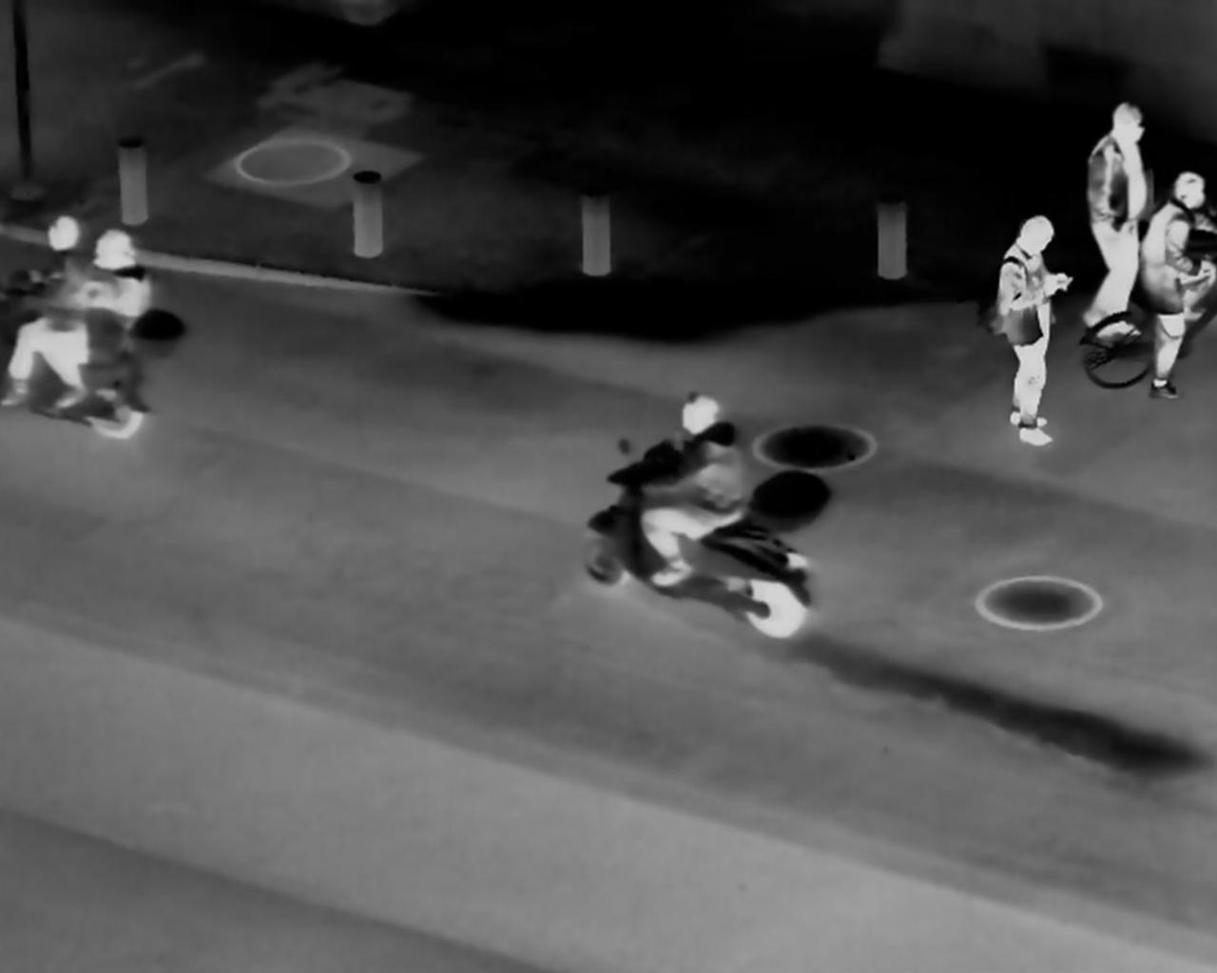person: (975, 200, 1078, 465), (630, 384, 749, 596), (1072, 92, 1152, 351), (1146, 151, 1210, 411), (18, 205, 89, 411), (81, 223, 150, 425)
